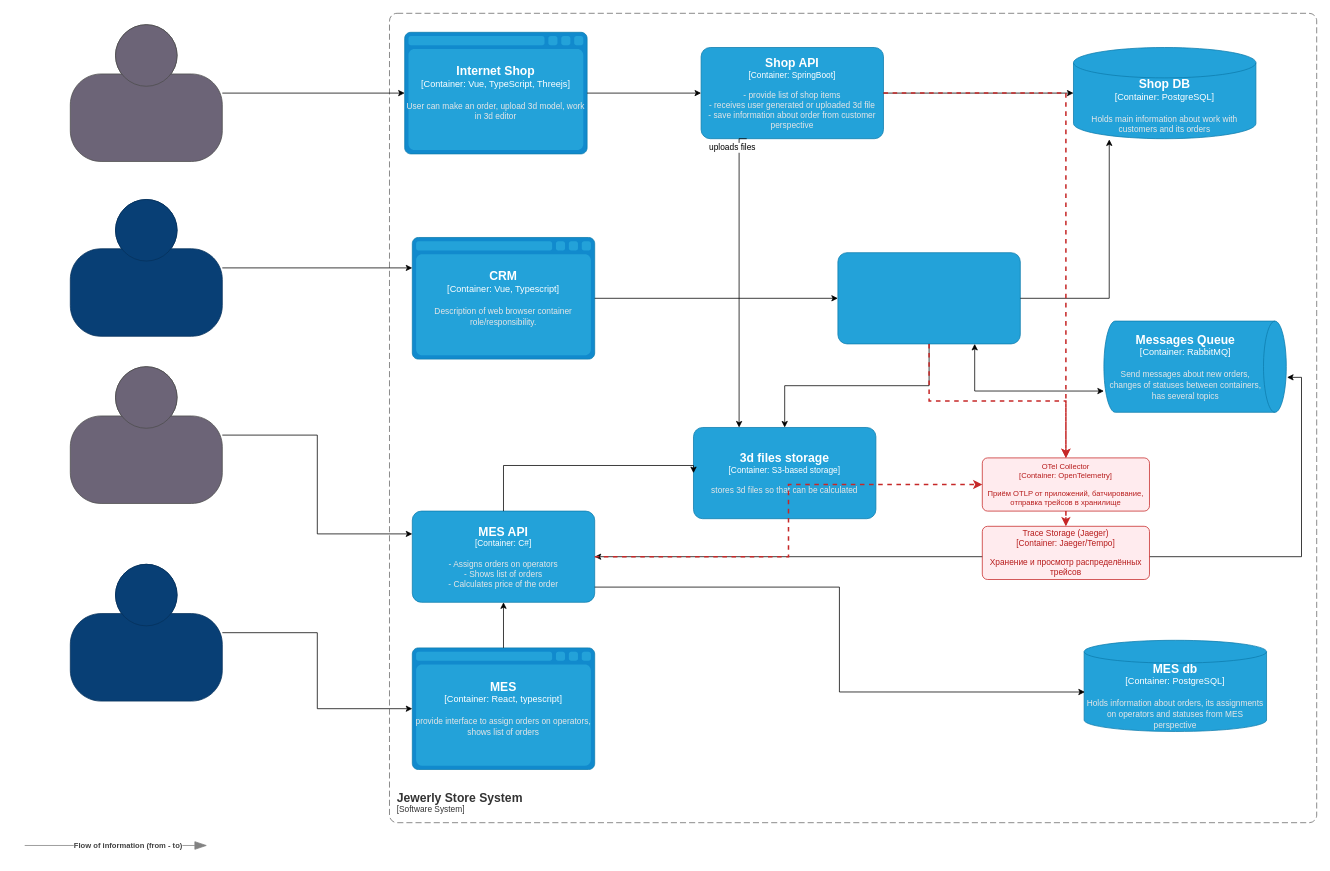
Some shapes in this 1330 by 871 pixel diagram are drawn without their labels. The box of each missing label's shape, as (x1, y1, x2, y2) in pixels:
API user [Person] Description of external person.: (70, 366, 222, 504)
CRM API [Container: SpringBoot] Description of container role/responsibility.: (837, 252, 1020, 344)
Customer [Person] Description of external person.: (70, 24, 222, 162)
Operator [Person] Takes order in work, manufactures jewerly: (70, 564, 222, 701)
Seller [Person] Operates with order, confirms manufacturing for the user: (70, 199, 222, 336)
